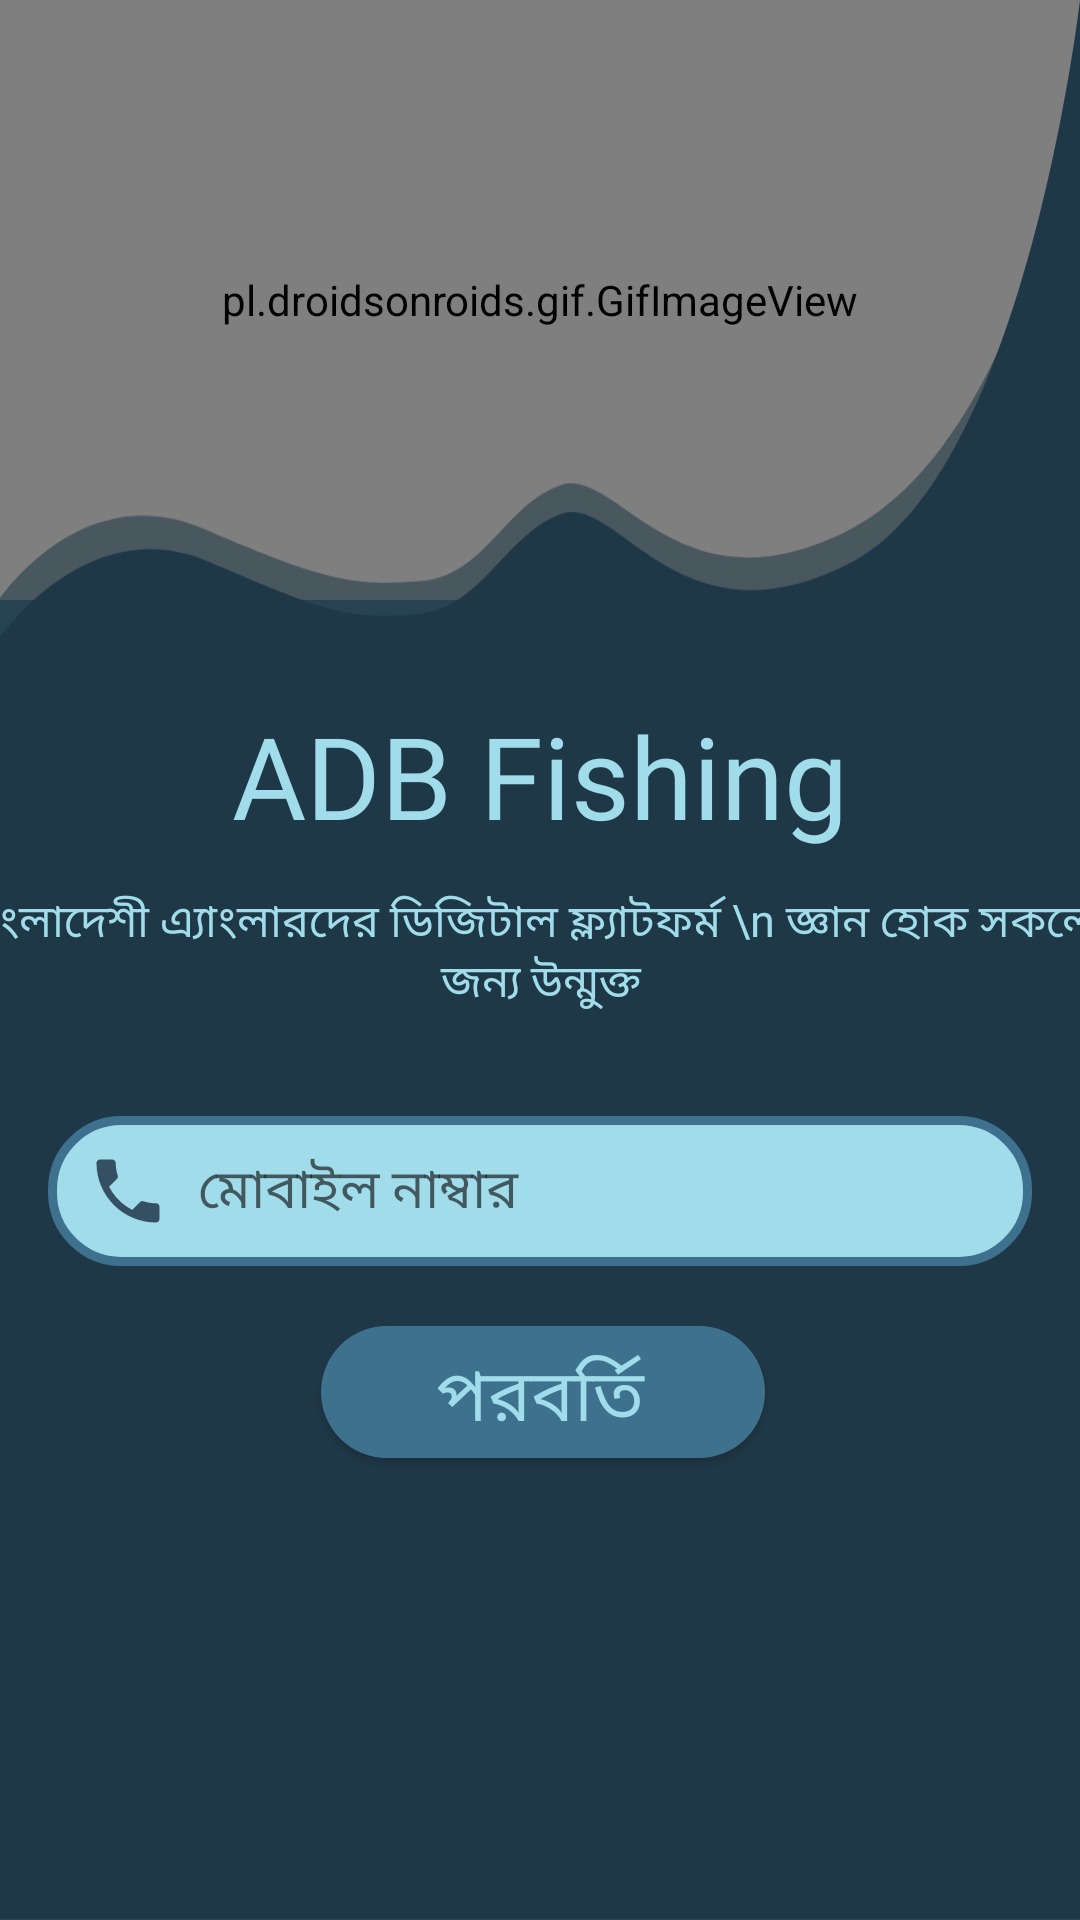

Locate icon controls on the screen. Image size 1080×1920, boxes as detection(x1, y1, x2, y2).
call: detection(96, 1159, 160, 1223)
